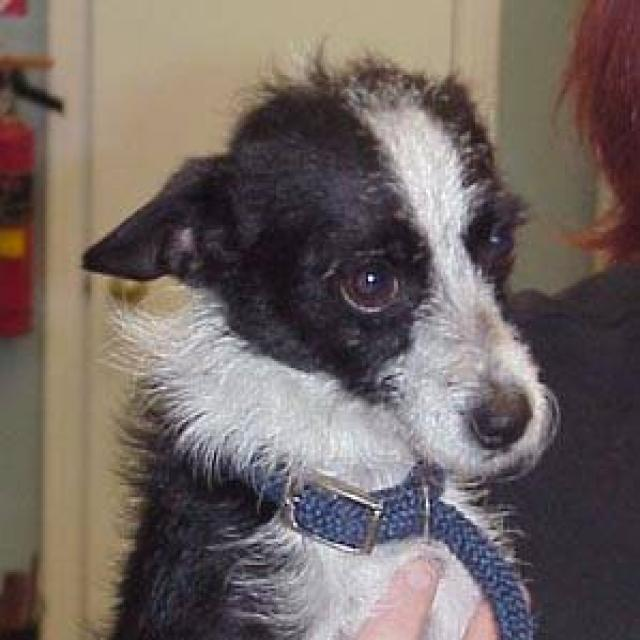dog: (75, 38, 561, 638)
